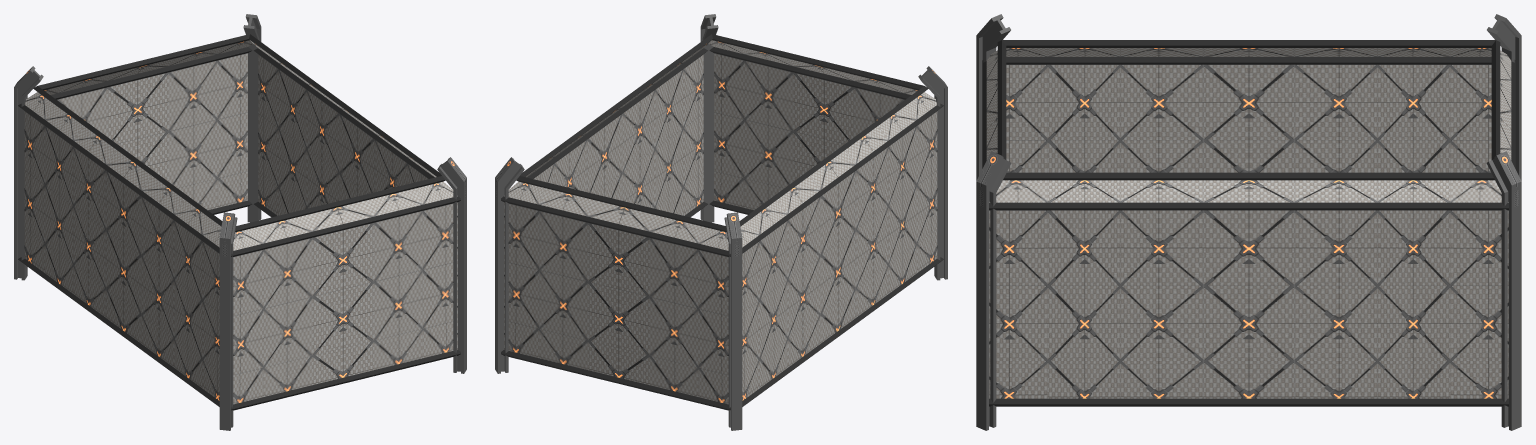
The picture shows the model from 3 angles, left to right: view 1: azimuth 30°, elevation 25°; view 2: azimuth 150°, elevation 25°; view 3: azimuth 270°, elevation 25°; orthographic projection. The views are drawn at different scales.
Parts seen in each view (by area): view 1: Plane.005; view 2: Plane.005; view 3: Plane.005.
Boxes of the visible parts, x1,y1,x2,y2 form: Plane.005: (14,14,466,430); Plane.005: (495,14,947,430); Plane.005: (976,14,1521,430).
Bounding box in the file's own units: 40.45 × 32.9 × 60.45.
1 material, 1 textured.
